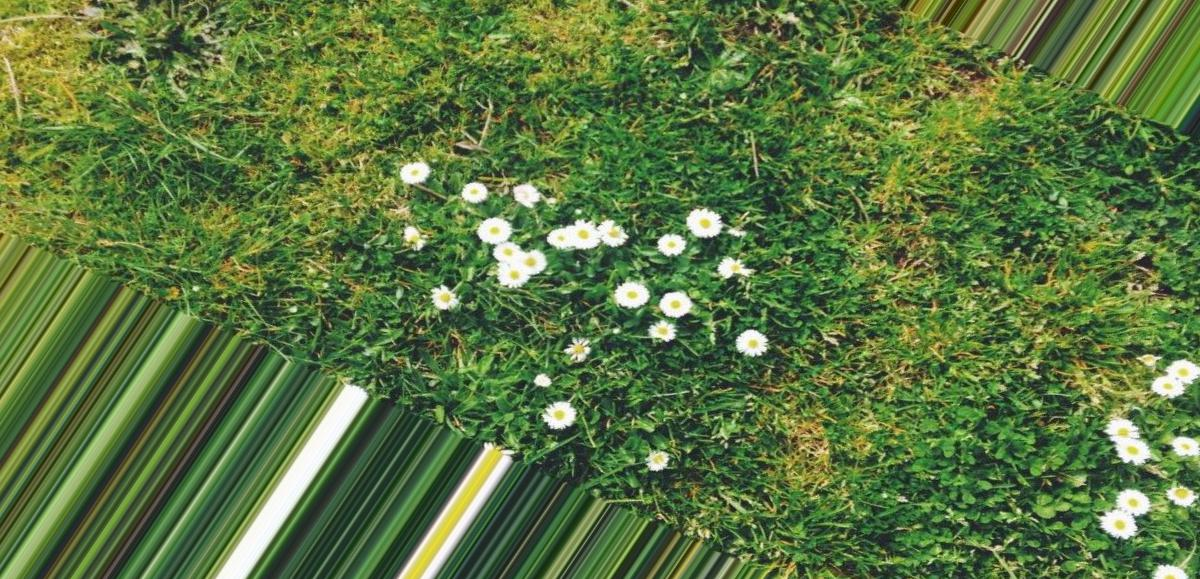patch: (863, 94, 952, 299), (258, 72, 379, 211), (755, 366, 832, 477), (826, 301, 927, 382), (490, 12, 613, 76), (387, 32, 461, 134), (8, 19, 81, 111), (8, 142, 77, 222), (721, 6, 792, 42)
